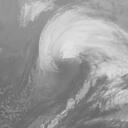cyclone: (39, 17, 123, 73)
